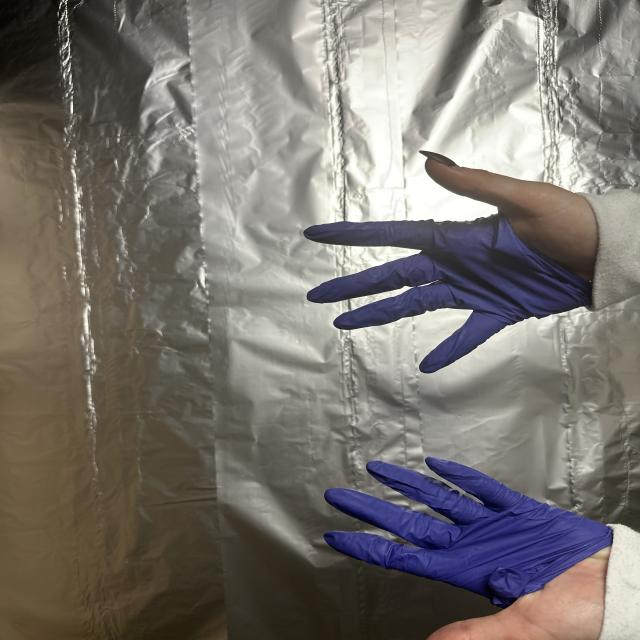glove_partial: (299, 147, 600, 377), (315, 448, 617, 640)
